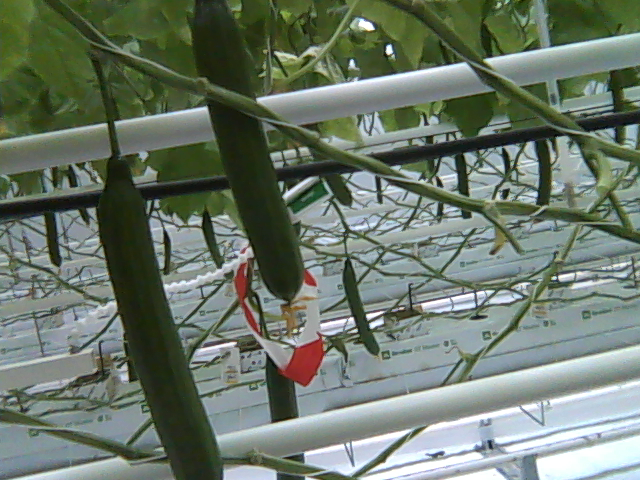concombre: (93, 155, 224, 480), (189, 1, 307, 338)
